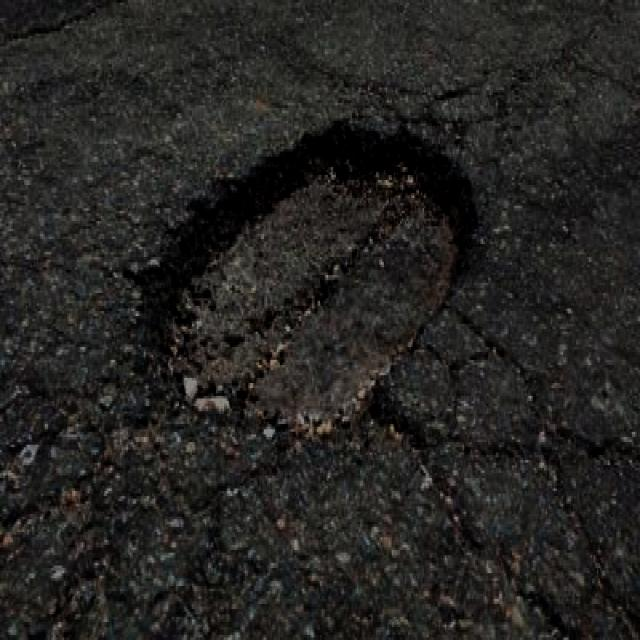Pothole: (132, 94, 481, 489)
